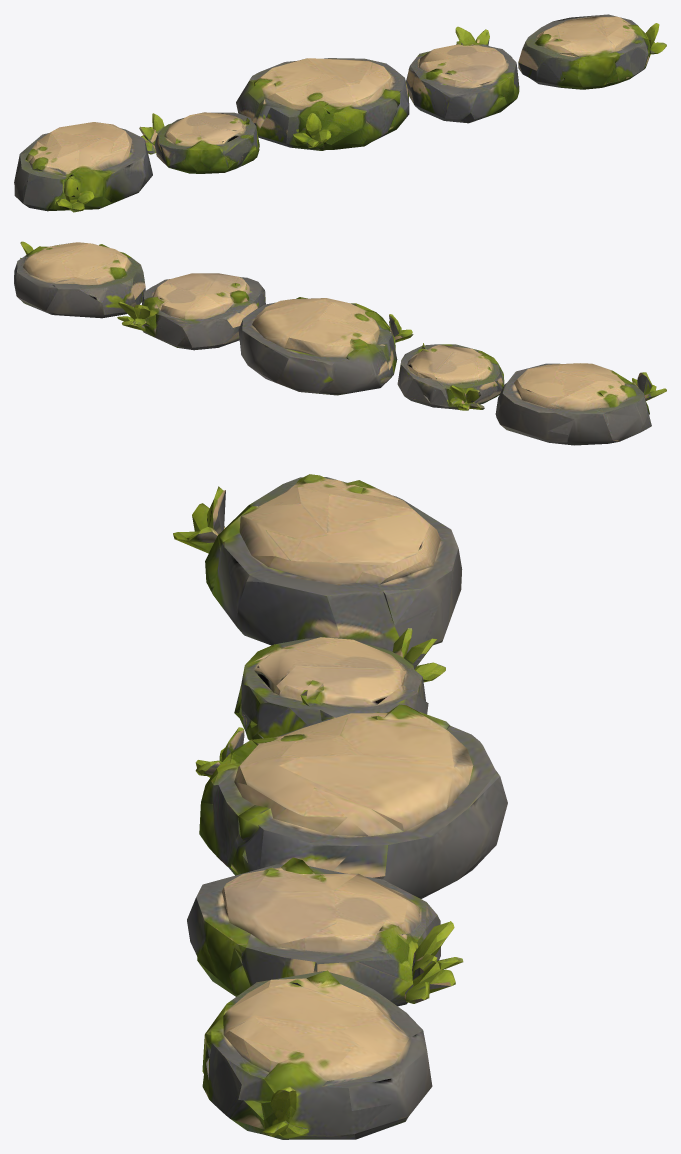
File: stepping-stones.glb
The picture shows the model from 3 angles, top to bottom: view 1: azimuth 30°, elevation 25°; view 2: azimuth 150°, elevation 25°; view 3: azimuth 270°, elevation 25°; orthographic projection. The views are drawn at different scales.
Parts seen in each view (by area): view 1: output_unwrapped; view 2: output_unwrapped; view 3: output_unwrapped.
Part boxes in pixels (x1,y1,x2,y2): output_unwrapped: (14,14,666,212); output_unwrapped: (14,241,666,445); output_unwrapped: (173,474,507,1139).
Bounding box in the file's own units: 1.9 × 0.1359 × 0.4326.
Materials: 1 (1 with a texture image).
